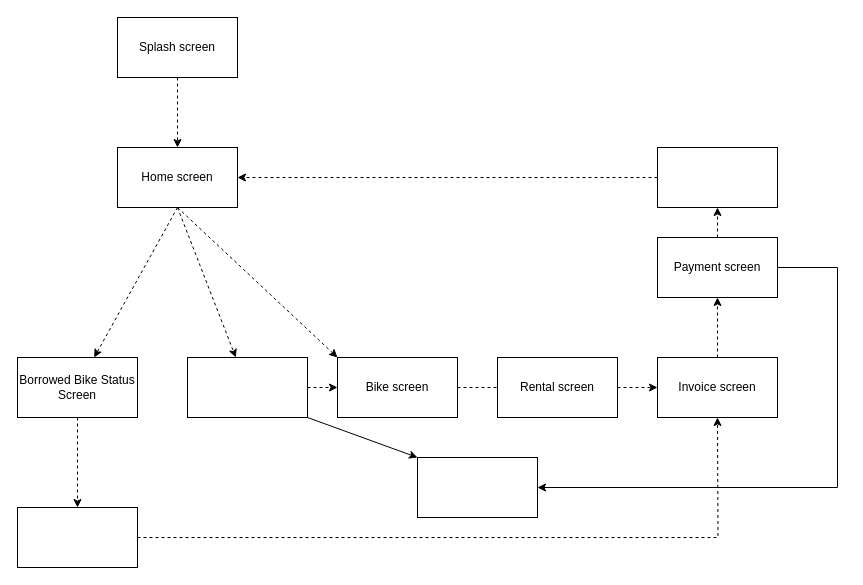
This 863x585 diagram has some shape labels left out. The shapes that lost their labels are listed below. From the top down, each one's centre as x and y in pixels, then its label:
At (717,177): "Result screen".
At (247,387): "Dock screen".
At (477,487): "Error screen".
At (77,537): "Return screen".
